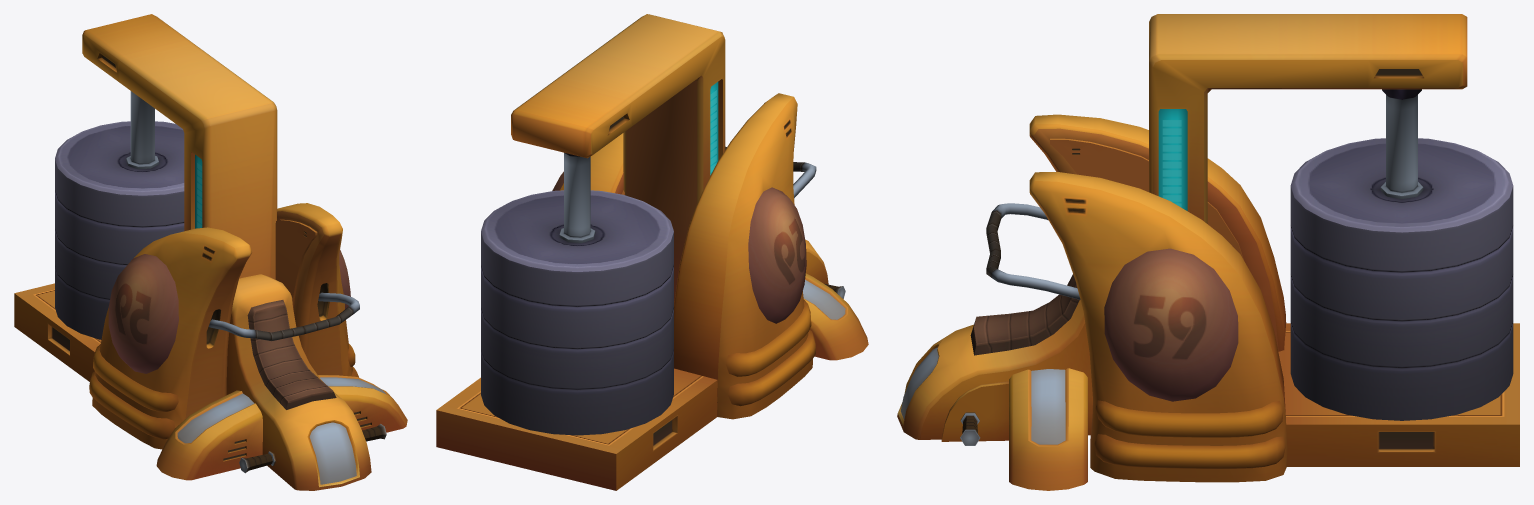
Rendered from zhonglishi_xunlianqi.FBX.
3 renders of one model, left to right at view 1: azimuth 30°, elevation 25°; view 2: azimuth 150°, elevation 25°; view 3: azimuth 270°, elevation 25°, orthographic. The views are drawn at different scales.
Parts seen in each view (by area): view 1: zhonglishi_xunlianqi; view 2: zhonglishi_xunlianqi; view 3: zhonglishi_xunlianqi.
Boxes of the visible parts, x1=… form: zhonglishi_xunlianqi: x1=14, y1=14, x2=407, y2=490; zhonglishi_xunlianqi: x1=436, y1=14, x2=868, y2=490; zhonglishi_xunlianqi: x1=897, y1=14, x2=1519, y2=490.
Bounding box in the file's own units: 186 × 223 × 329.
